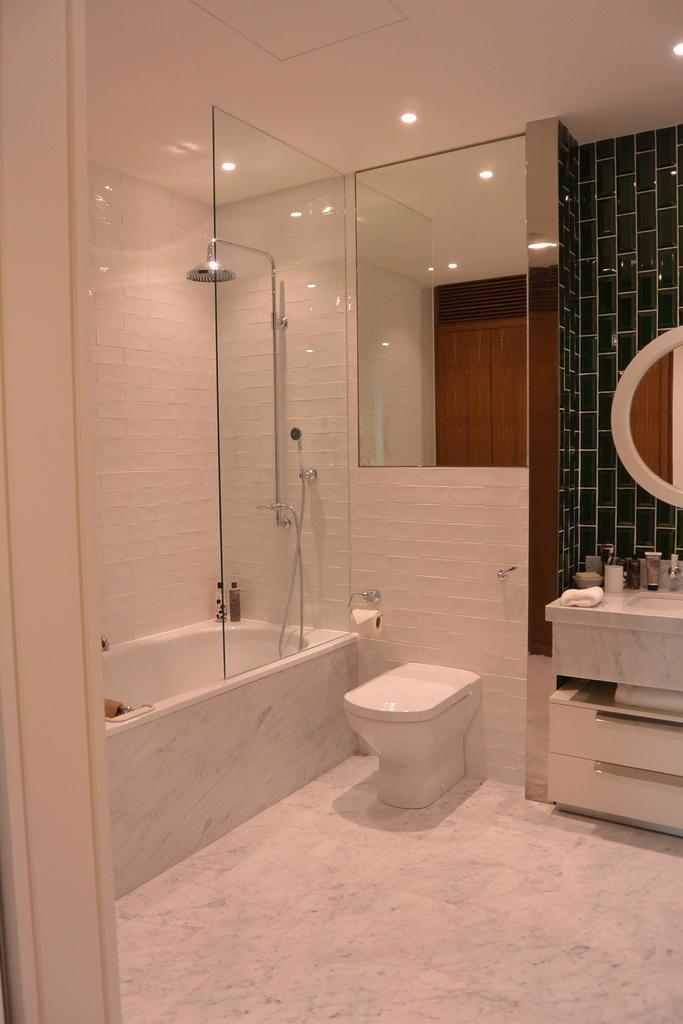cabinet_door: (553, 761, 683, 822), (552, 711, 683, 765)
handle: (593, 760, 683, 800), (593, 703, 683, 741)
